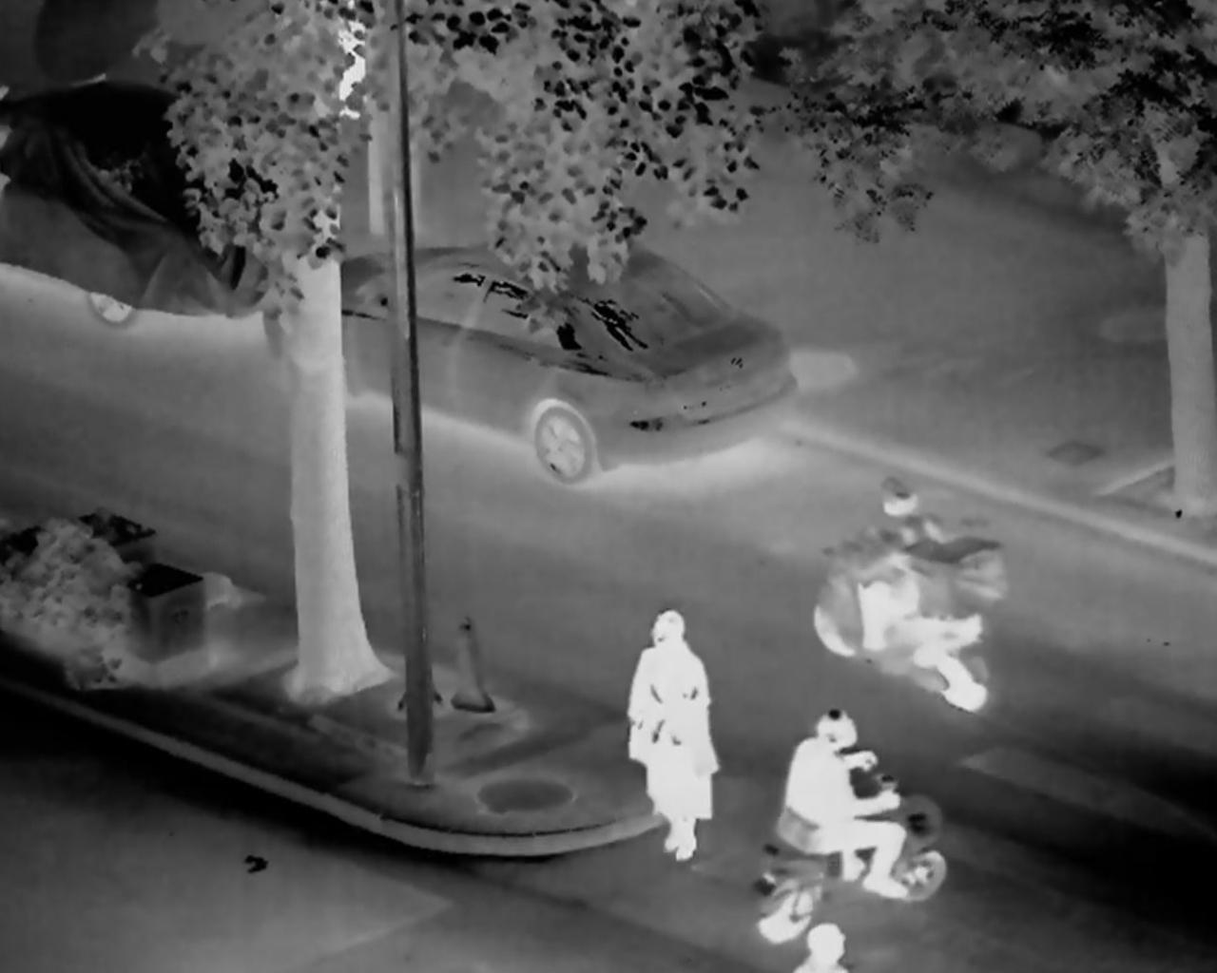person: (767, 697, 925, 919), (825, 481, 956, 666), (623, 613, 719, 860), (771, 895, 854, 973)
